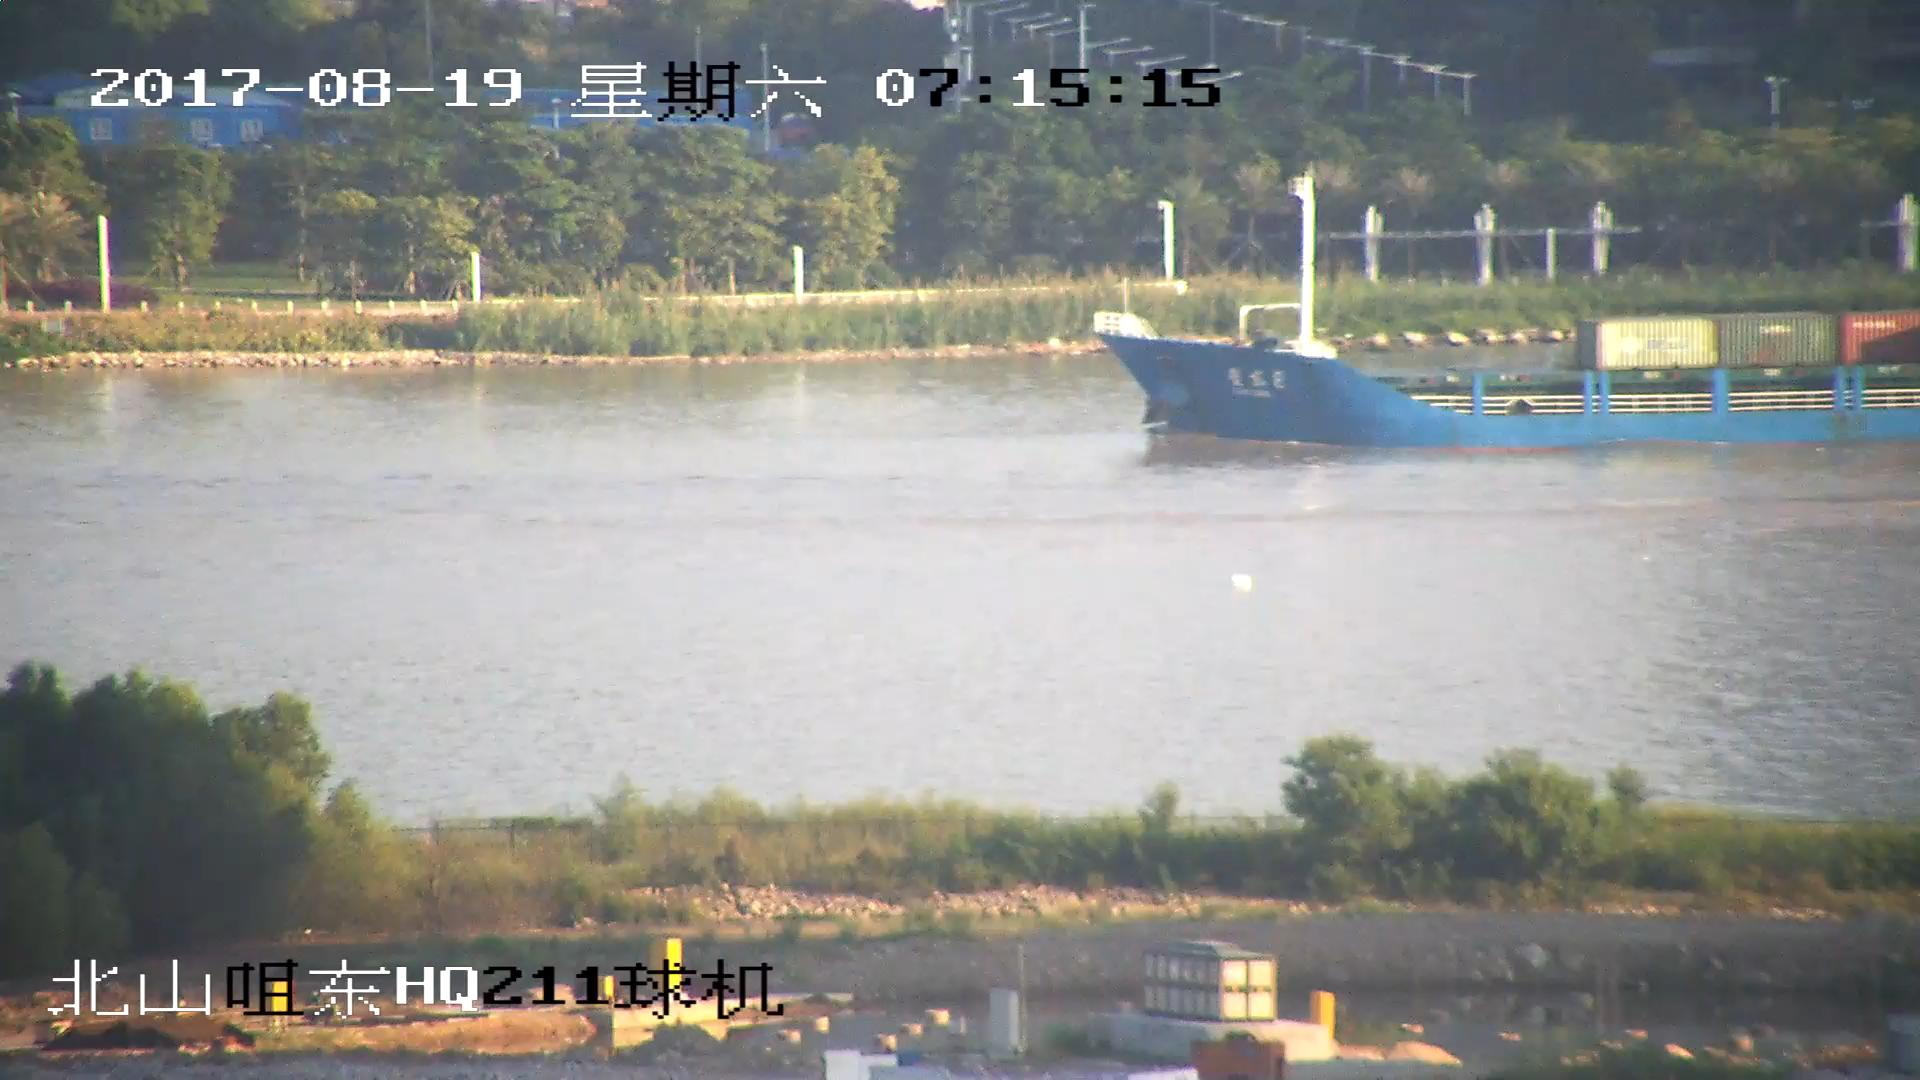general cargo ship: (1095, 176, 1920, 449)
